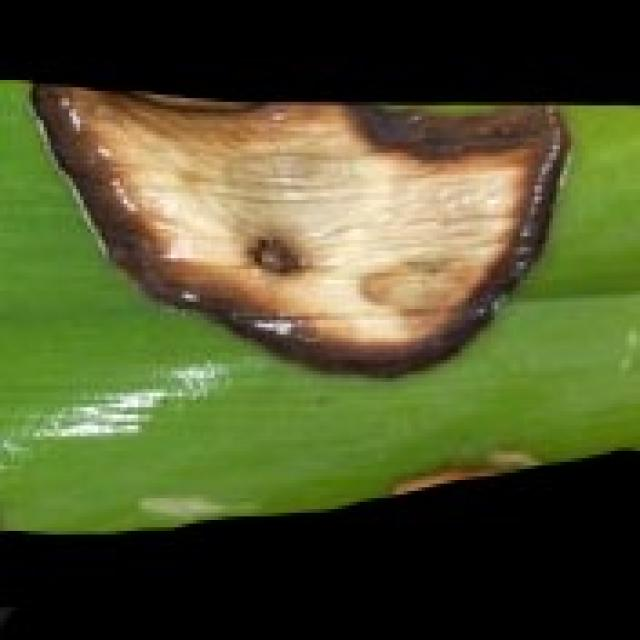mite: (233, 222, 520, 342), (465, 276, 516, 324), (247, 233, 298, 273), (615, 320, 636, 378), (0, 429, 25, 473), (469, 295, 495, 324)
sunburn: (25, 76, 575, 382)
